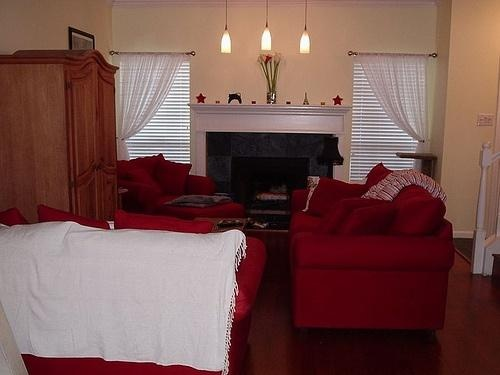chair: (121, 156, 217, 213)
sofa: (2, 209, 270, 370), (293, 166, 454, 334)
